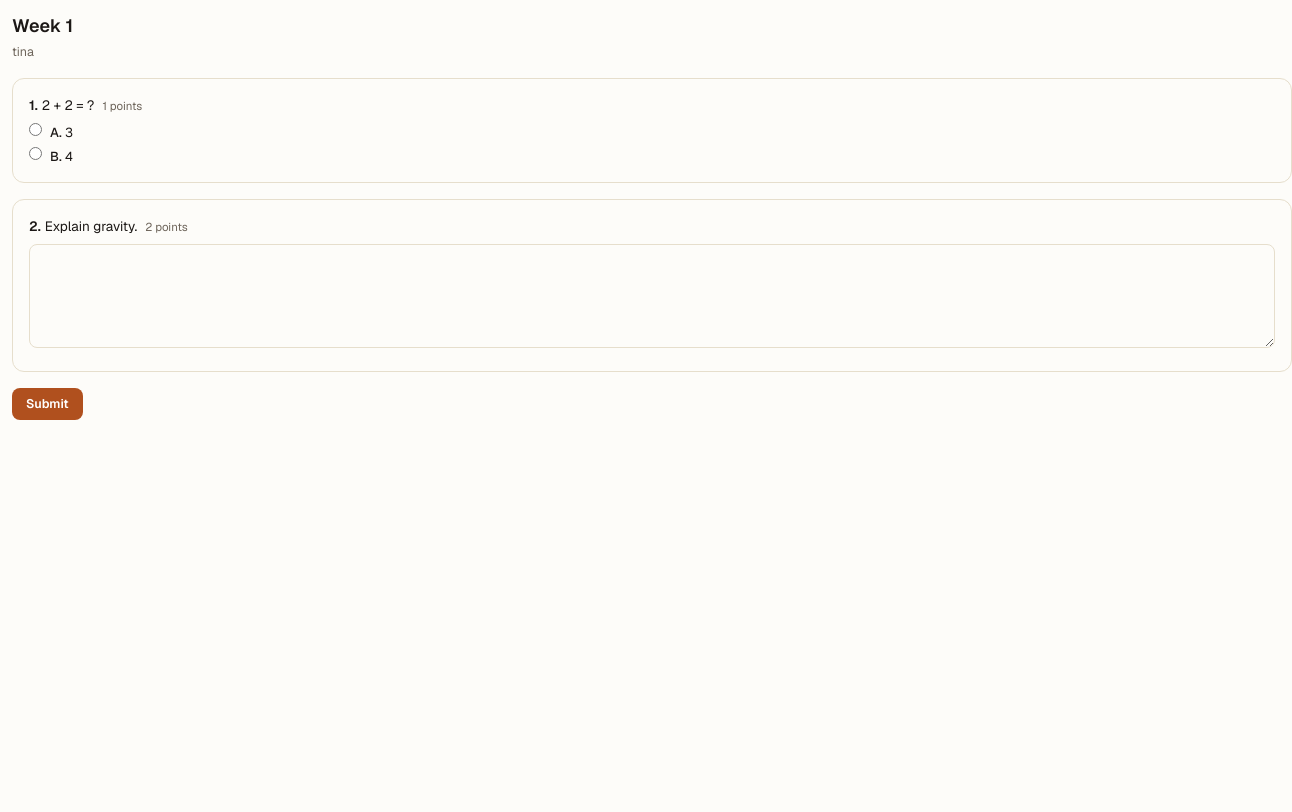
submits the chosen answers and shows per-question results
The width and height of the screenshot is (1292, 812).
Click the radio button labelled "B. 4" at [36, 153], box [29,146,42,160]
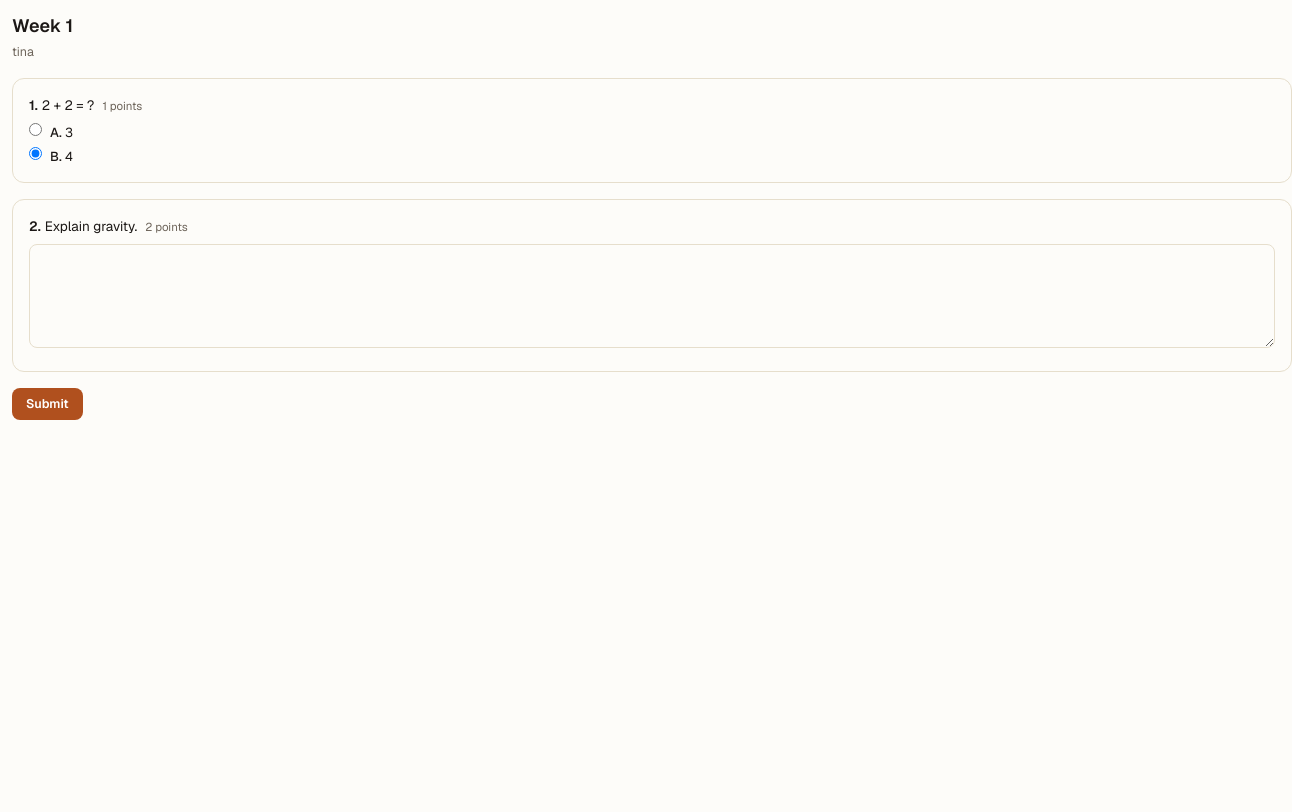
Type "Things fall" into the text box named "Your answer" at [652, 296], box [29,244,1275,348]
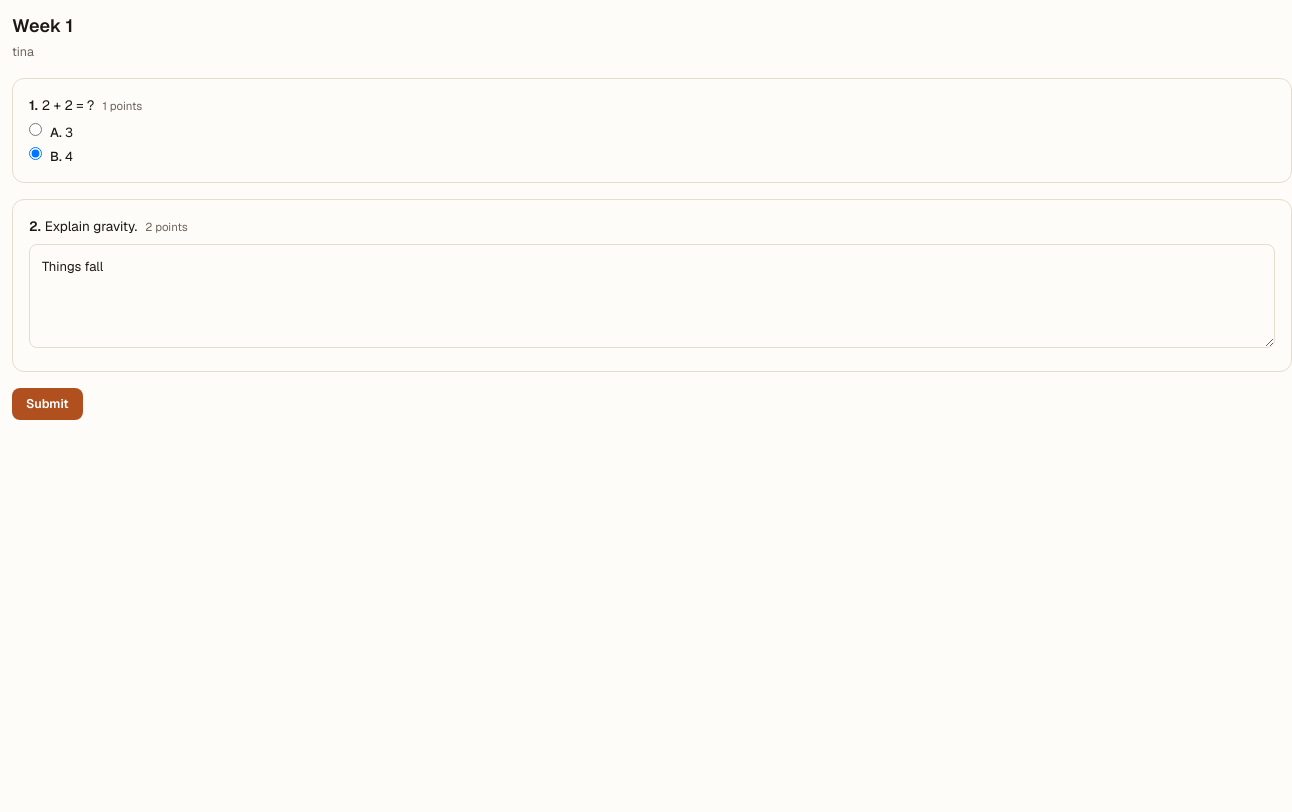
Click the button "Submit" at [47, 404], box [12,388,83,420]
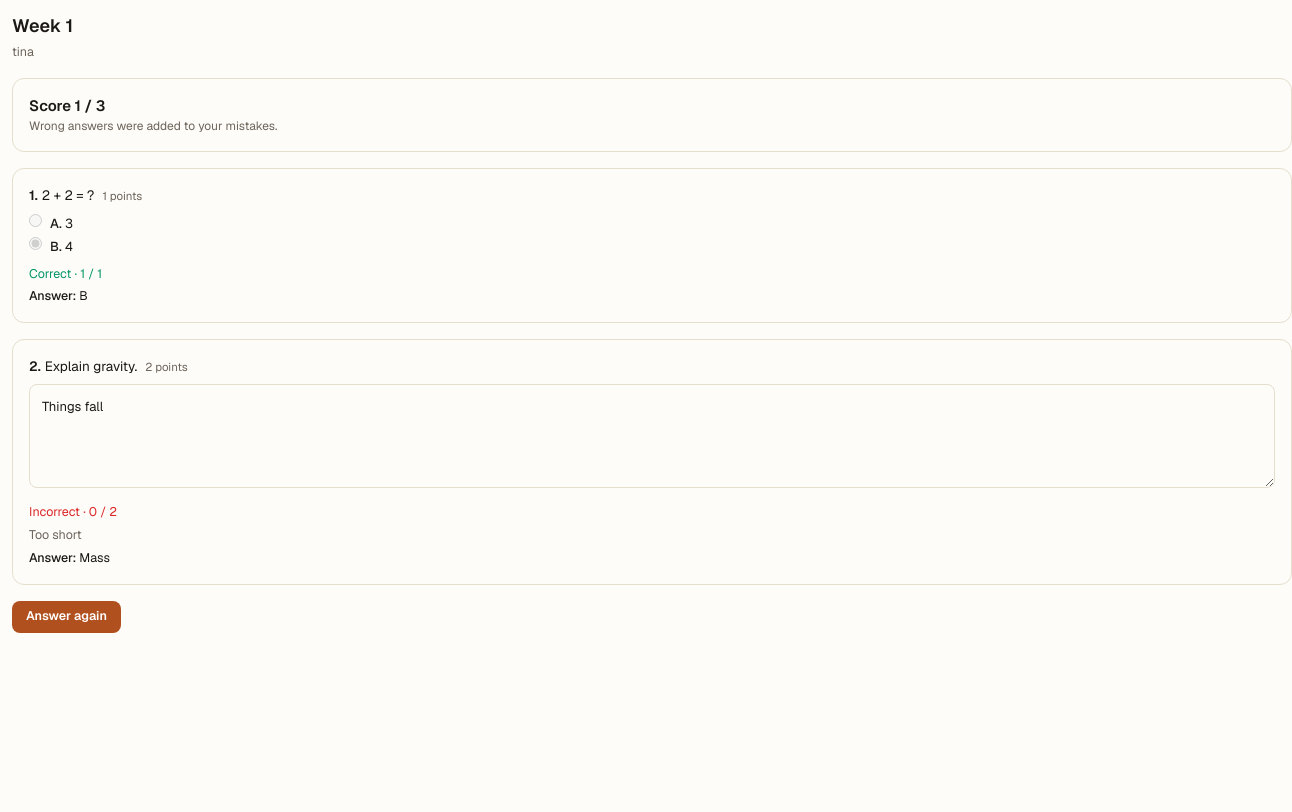
Expected: the message shows "Score 1 / 3", [29,96,105,115]
Expected: the text "Too short" is shown, [29,526,82,543]
Expected: the button "Answer again" is shown, [12,600,121,632]
